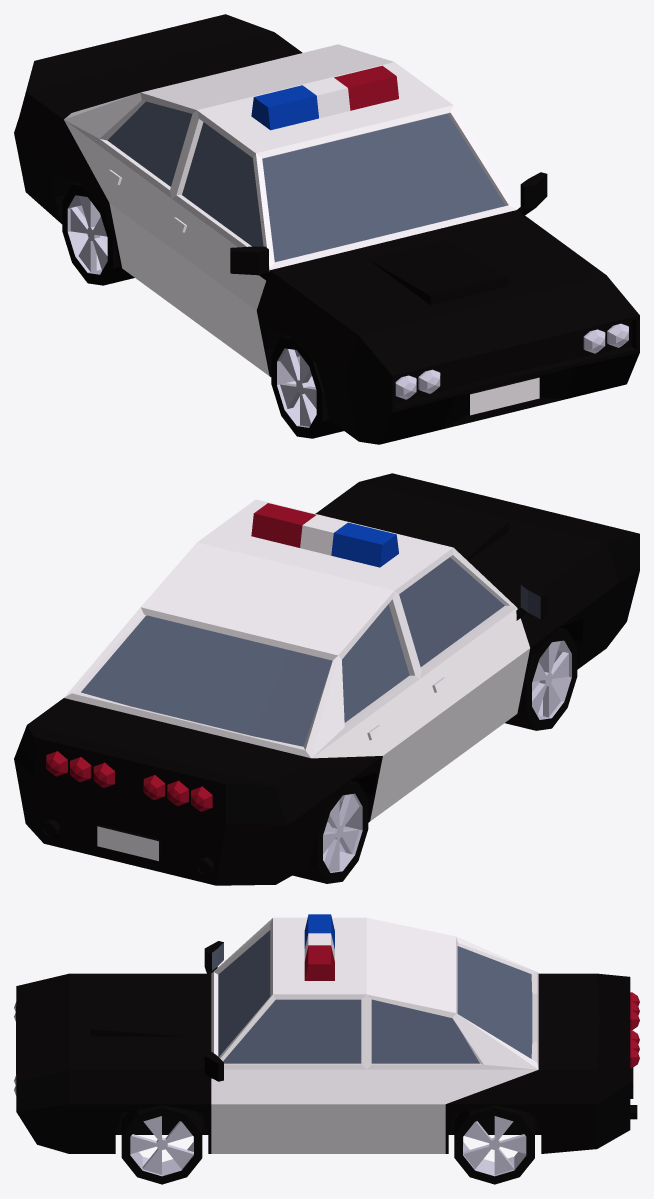
Rendered from Police_Muscle.gltf.
3 views of the same model, one above another, from view 1: azimuth 30°, elevation 25°; view 2: azimuth 150°, elevation 25°; view 3: azimuth 270°, elevation 25° (orthographic). The views are drawn at different scales.
Visible parts, largest first — view 1: Police_Muscle, Police_Muscle_wheel_front_right, Police_Muscle_wheel_rear_right; view 2: Police_Muscle, Police_Muscle_wheel_front_right, Police_Muscle_wheel_rear_right; view 3: Police_Muscle, Police_Muscle_wheel_front_left, Police_Muscle_wheel_rear_left.
Boxes of the visible parts, bbox=[...] form: Police_Muscle: bbox=[14, 14, 639, 444]; Police_Muscle_wheel_front_right: bbox=[271, 335, 343, 438]; Police_Muscle_wheel_rear_right: bbox=[62, 182, 134, 285]; Police_Muscle: bbox=[14, 473, 639, 885]; Police_Muscle_wheel_front_right: bbox=[505, 628, 577, 730]; Police_Muscle_wheel_rear_right: bbox=[293, 781, 368, 883]; Police_Muscle: bbox=[14, 914, 639, 1153]; Police_Muscle_wheel_front_left: bbox=[121, 1105, 202, 1184]; Police_Muscle_wheel_rear_left: bbox=[454, 1105, 534, 1184].
Size of the model in its own units: 281 by 209 by 606.
